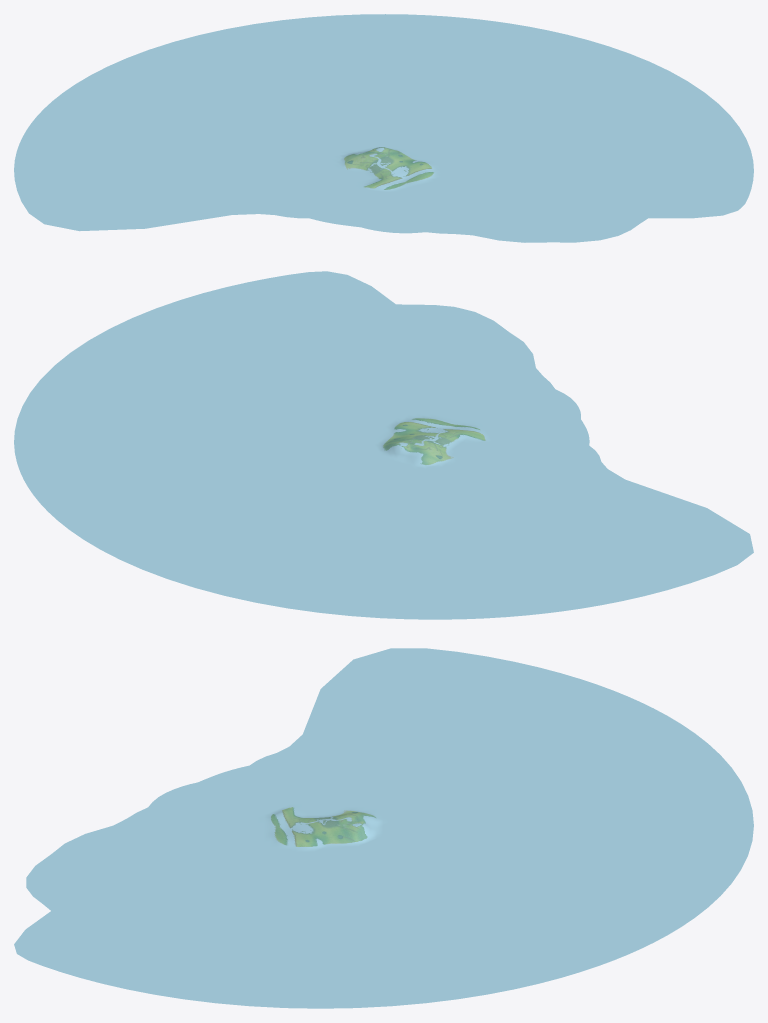
File: far_meadow_card.glb
The picture shows the model from 3 angles, top to bottom: view 1: azimuth 30°, elevation 25°; view 2: azimuth 150°, elevation 25°; view 3: azimuth 270°, elevation 25°; orthographic projection. The views are drawn at different scales.
Visible parts, largest first — view 1: far_meadow_card; view 2: far_meadow_card; view 3: far_meadow_card.
Boxes of the visible parts, x1,y1,x2,y2 form: far_meadow_card: [14, 14, 753, 242]; far_meadow_card: [14, 271, 753, 619]; far_meadow_card: [14, 648, 753, 1008].
Bounding box in the file's own units: 118 × 1.32 × 102.
1 material, 1 textured.
